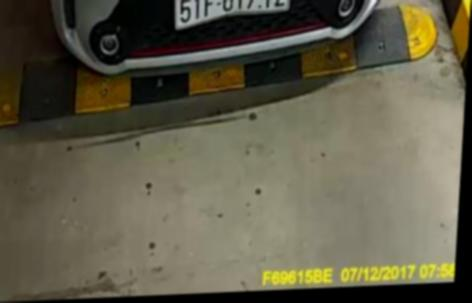License_Plate: (172, 0, 296, 32)
